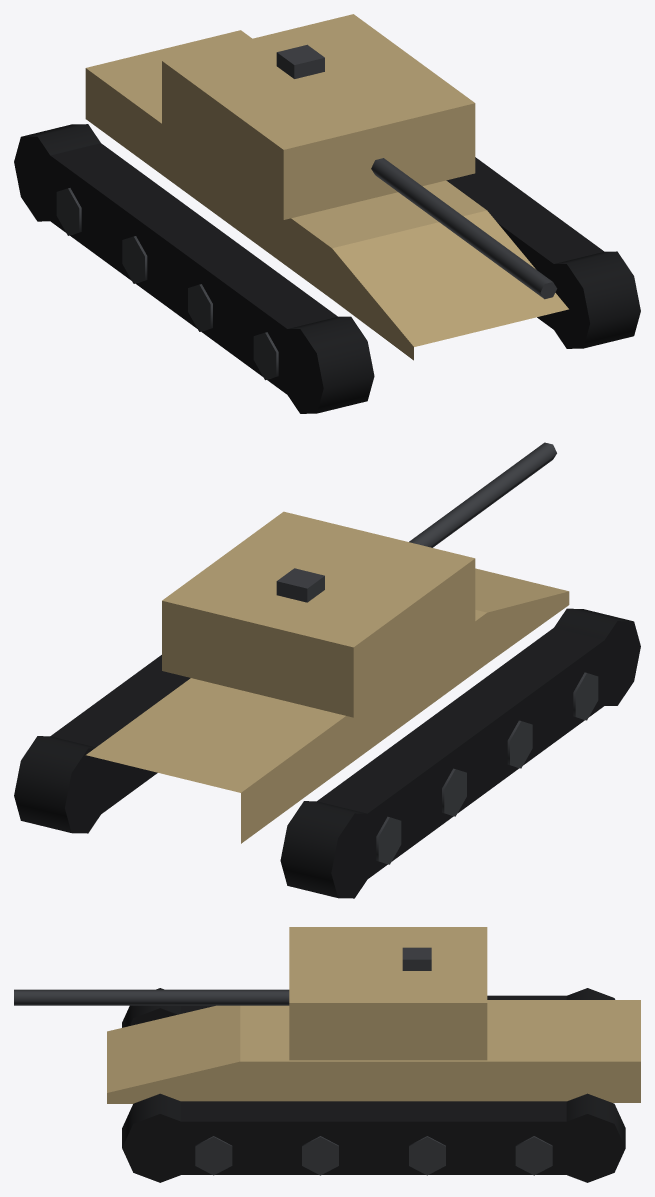
The model's file is veh_ground_tank_heavy_a07.glb.
The picture shows the model from 3 angles, top to bottom: view 1: azimuth 30°, elevation 25°; view 2: azimuth 150°, elevation 25°; view 3: azimuth 270°, elevation 25°; orthographic projection. The views are drawn at different scales.
Parts seen in each view (by area): view 1: turret, body, track_r, track_l; view 2: turret, track_r, body, track_l; view 3: body, track_l, turret, track_r.
Boxes of the visible parts, x1,y1,x2,y2 form: turret: (162,14,557,299); body: (85,30,568,360); track_r: (14,124,374,413); track_l: (446,157,640,348); turret: (162,442,556,717); track_r: (280,608,640,898); body: (86,568,569,843); track_l: (14,655,190,833); body: (107,947,640,1103); track_l: (122,1093,625,1182); turret: (14,927,487,1060); track_r: (122,988,615,1027).
Size of what is drawn, in the model's own units: 4.2 by 2.55 by 8.71.
